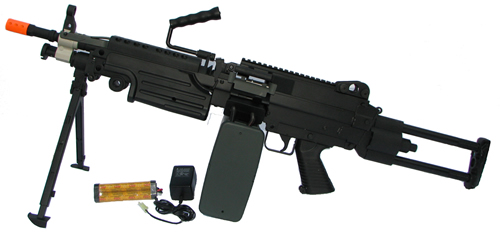rifle: (8, 9, 484, 224)
